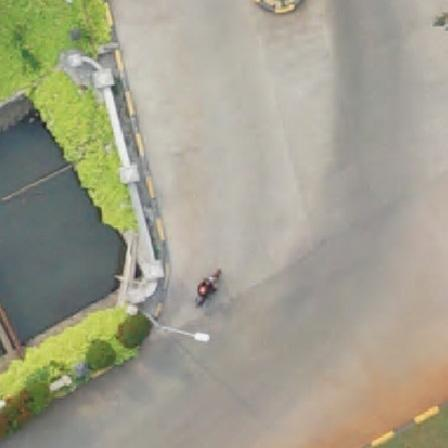Motorcycle: (192, 268, 225, 308)
